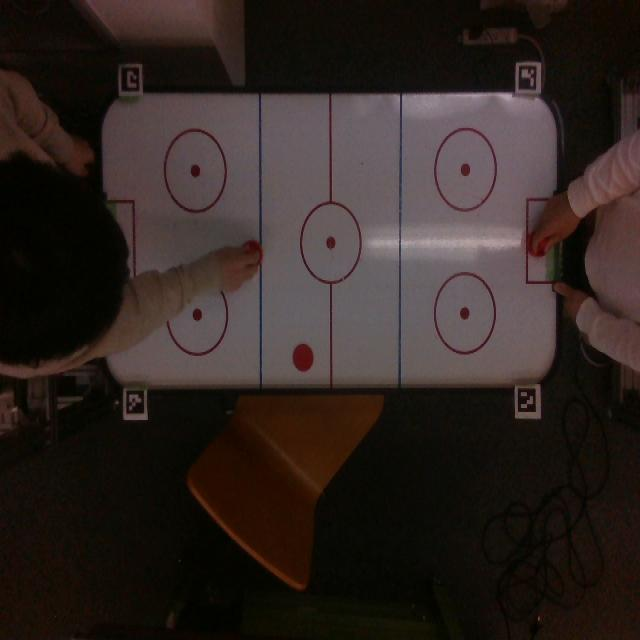puck: (293, 344, 313, 372)
